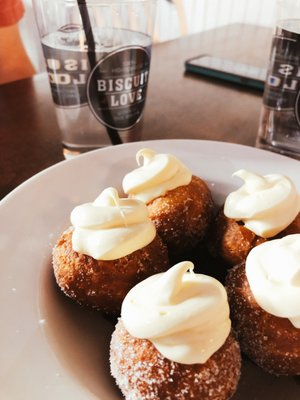pasta: (222, 169, 300, 239)
pizza: (41, 5, 152, 142)
